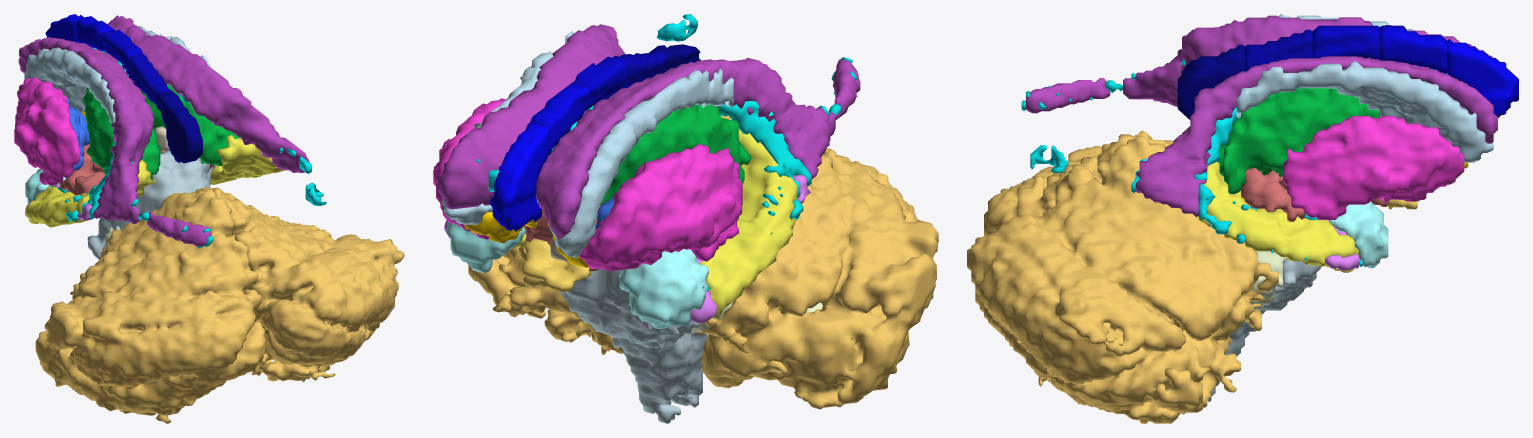
Rendered from structures.glb.
3 renders of one model, left to right at view 1: azimuth 30°, elevation 25°; view 2: azimuth 150°, elevation 25°; view 3: azimuth 270°, elevation 25°, orthographic. The views are drawn at different scales.
Parts seen in each view (by area): view 1: aseg:left:8, aseg:right:47, aseg:left:4, aseg:right:43, aseg:left:12, aseg:left:11, aseg:midline:16, aseg:left:10, aseg:midline:251, aseg:left:17, aseg:right:53, aseg:right:49 (+9 smaller); view 2: aseg:left:8, aseg:left:4, aseg:left:12, aseg:midline:16, aseg:right:43, aseg:left:17, aseg:left:11, aseg:right:47, aseg:left:18, aseg:left:10, aseg:midline:255, aseg:left:31 (+12 smaller); view 3: aseg:right:47, aseg:right:51, aseg:right:43, aseg:right:50, aseg:right:49, aseg:left:4, aseg:right:53, aseg:left:8, aseg:midline:255, aseg:right:63, aseg:midline:251, aseg:midline:254 (+7 smaller).
Part boxes in pixels (bbox=[...]): aseg:left:8: bbox=[35, 188, 265, 423]; aseg:right:47: bbox=[195, 186, 404, 382]; aseg:left:4: bbox=[18, 37, 211, 246]; aseg:right:43: bbox=[96, 15, 309, 172]; aseg:left:12: bbox=[14, 77, 80, 185]; aseg:left:11: bbox=[24, 47, 115, 134]; aseg:midline:16: bbox=[87, 150, 216, 259]; aseg:left:10: bbox=[83, 87, 160, 180]; aseg:midline:251: bbox=[158, 91, 202, 163]; aseg:left:17: bbox=[25, 160, 156, 227]; aseg:right:53: bbox=[210, 135, 285, 184]; aseg:right:49: bbox=[141, 84, 239, 165]; aseg:left:8: bbox=[697, 115, 938, 409]; aseg:left:4: bbox=[536, 57, 860, 239]; aseg:left:12: bbox=[579, 144, 742, 271]; aseg:midline:16: bbox=[559, 268, 708, 423]; aseg:right:43: bbox=[437, 24, 625, 209]; aseg:left:17: bbox=[618, 129, 797, 322]; aseg:left:11: bbox=[548, 68, 733, 257]; aseg:right:47: bbox=[468, 246, 623, 355]; aseg:left:18: bbox=[618, 249, 708, 328]; aseg:left:10: bbox=[600, 104, 751, 205]; aseg:midline:255: bbox=[490, 123, 548, 231]; aseg:left:31: bbox=[535, 57, 857, 323]; aseg:right:47: bbox=[967, 136, 1278, 423]; aseg:right:51: bbox=[1283, 116, 1464, 219]; aseg:right:43: bbox=[1135, 56, 1497, 217]; aseg:right:50: bbox=[1236, 61, 1493, 162]; aseg:right:49: bbox=[1217, 88, 1379, 193]; aseg:left:4: bbox=[1025, 15, 1493, 113]; aseg:right:53: bbox=[1198, 161, 1359, 272]; aseg:left:8: bbox=[984, 130, 1173, 235]; aseg:midline:255: bbox=[1447, 39, 1518, 117]; aseg:right:63: bbox=[1030, 72, 1442, 266]; aseg:midline:251: bbox=[1177, 44, 1244, 119]; aseg:midline:254: bbox=[1380, 25, 1447, 73].
Bounding box in the file's own units: 0.106 × 0.097 × 0.131.
